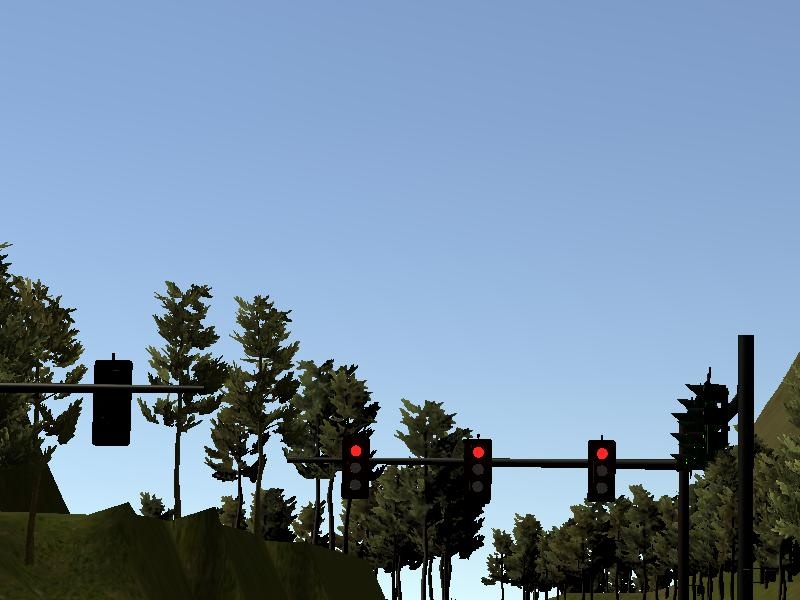red: (340, 430, 374, 505), (459, 434, 495, 502), (585, 434, 618, 508)
